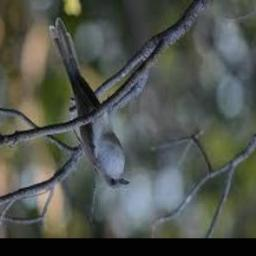Cuckoo: (50, 19, 131, 190)
